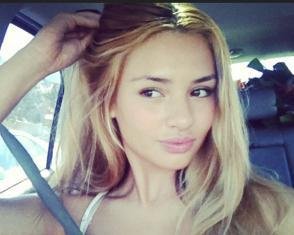face: (117, 33, 216, 169)
